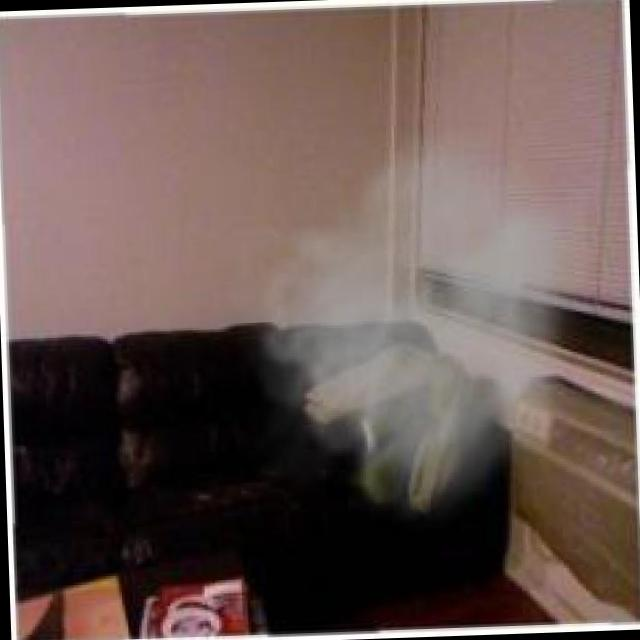Smoke: (208, 106, 596, 541)
